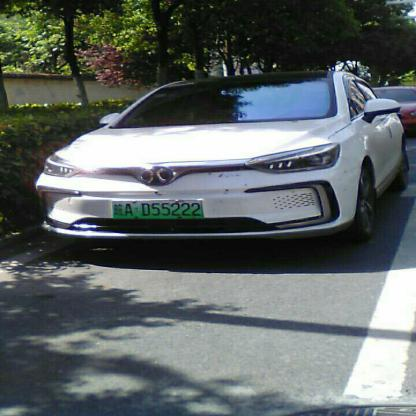lp: (112, 200, 204, 217)
